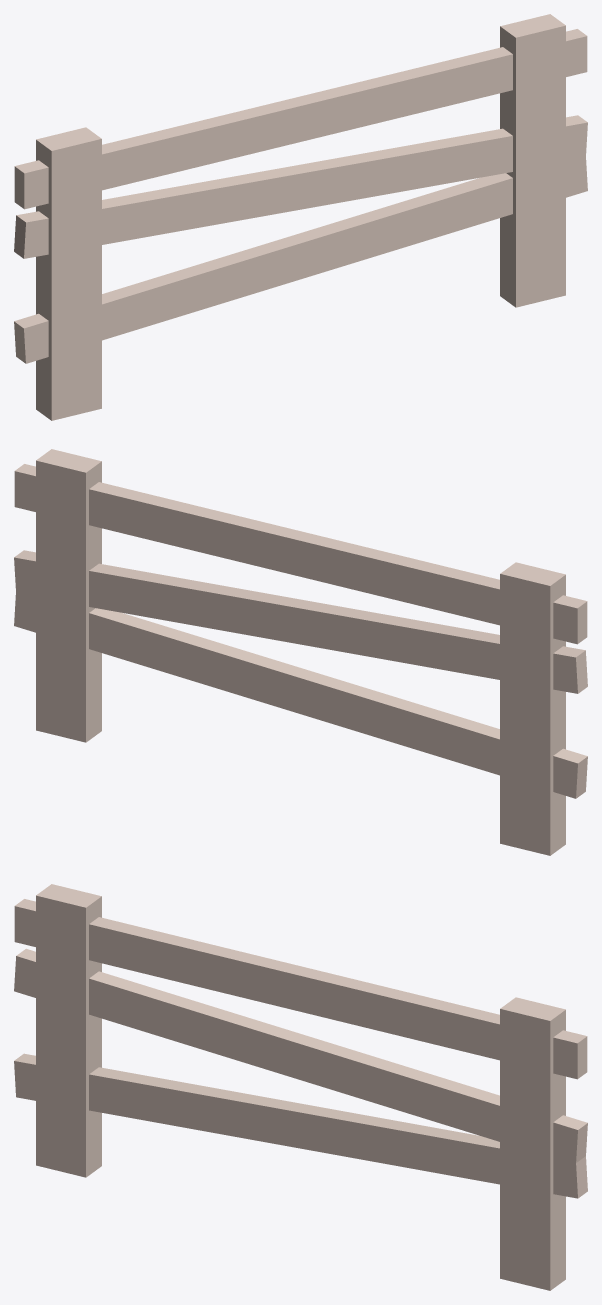
The model's file is fence_single.fbx.
The picture shows the model from 3 angles, top to bottom: view 1: azimuth 30°, elevation 25°; view 2: azimuth 150°, elevation 25°; view 3: azimuth 330°, elevation 25°; orthographic projection.
Parts seen in each view (by area): view 1: pCube6; view 2: pCube6; view 3: pCube6.
Part boxes in pixels (bbox=[...]): pCube6: bbox=[14, 14, 587, 420]; pCube6: bbox=[14, 449, 587, 855]; pCube6: bbox=[14, 884, 587, 1290].
Size of the model in its own units: 292 by 133 by 14.12.
